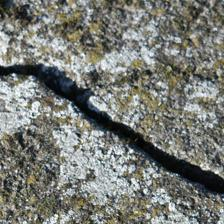Crack: (3, 31, 218, 165)
